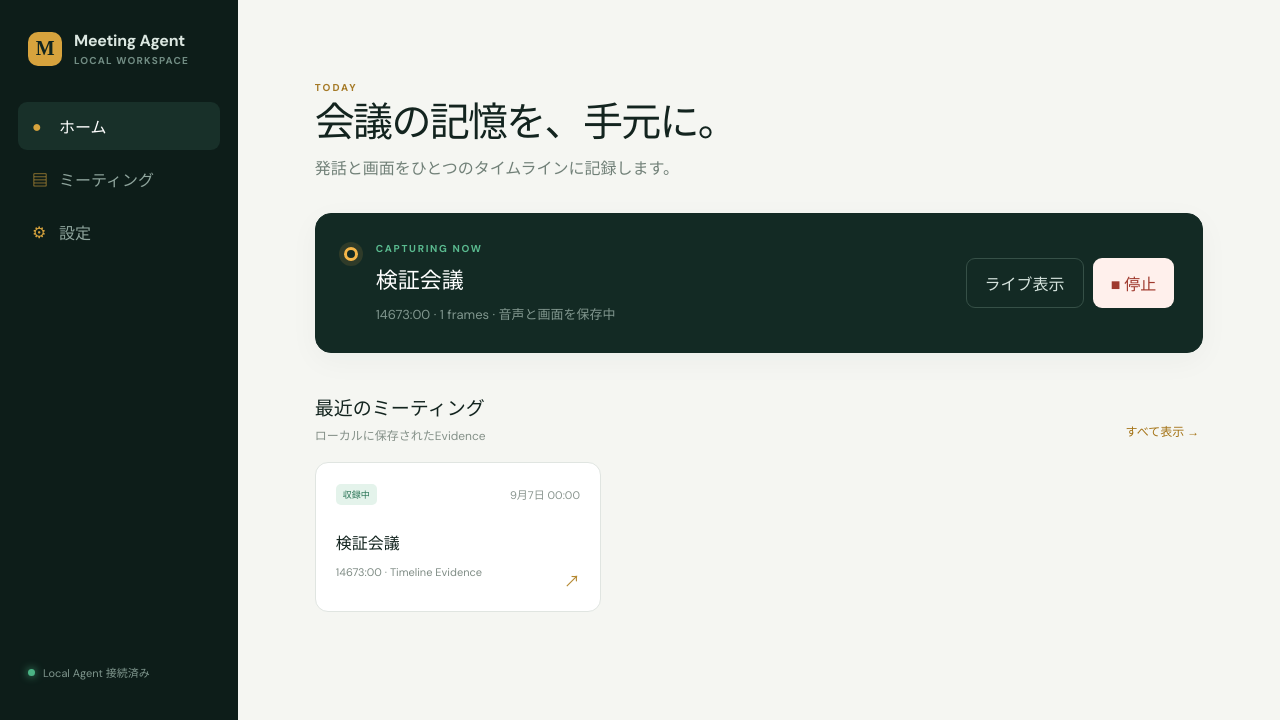
Scenario: shows the stored generator and topic discussion in meeting minutes
Click the button "ライブ表示": [1025, 282] box x1=966 y1=258 x2=1084 y2=308
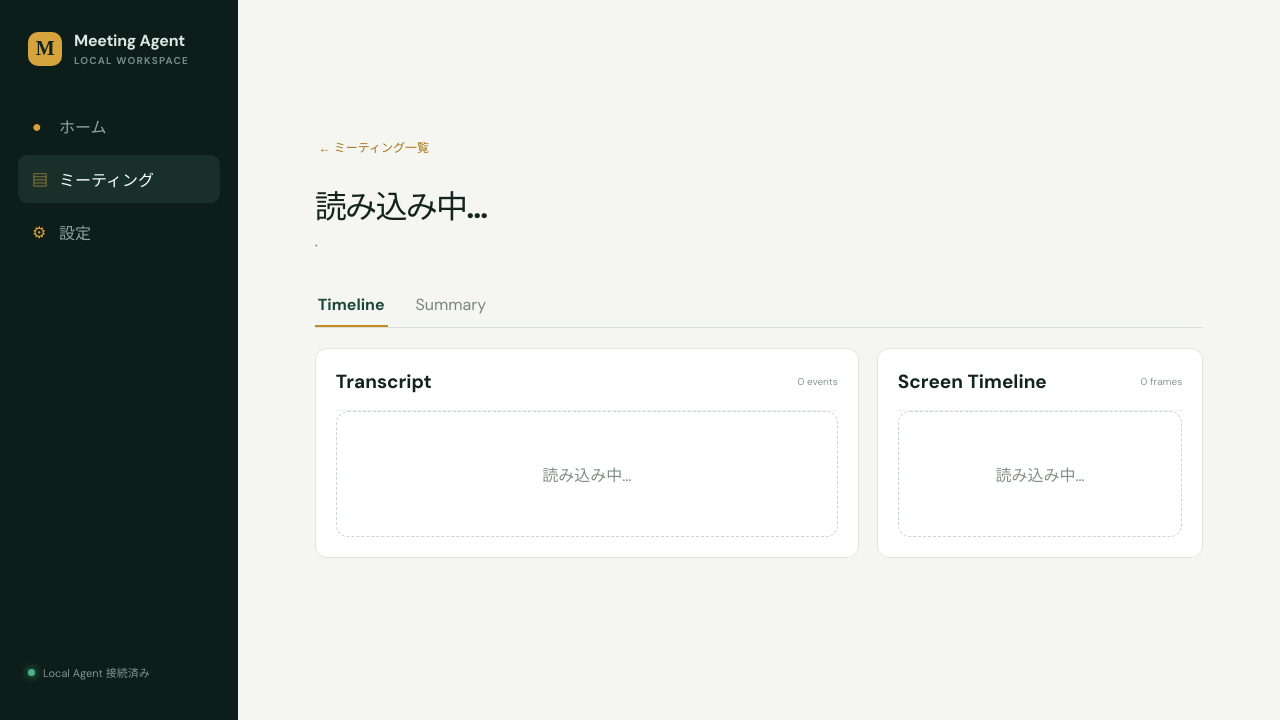
Click the button "Summary": [451, 306] box x1=413 y1=284 x2=489 y2=327
(page scrolled)
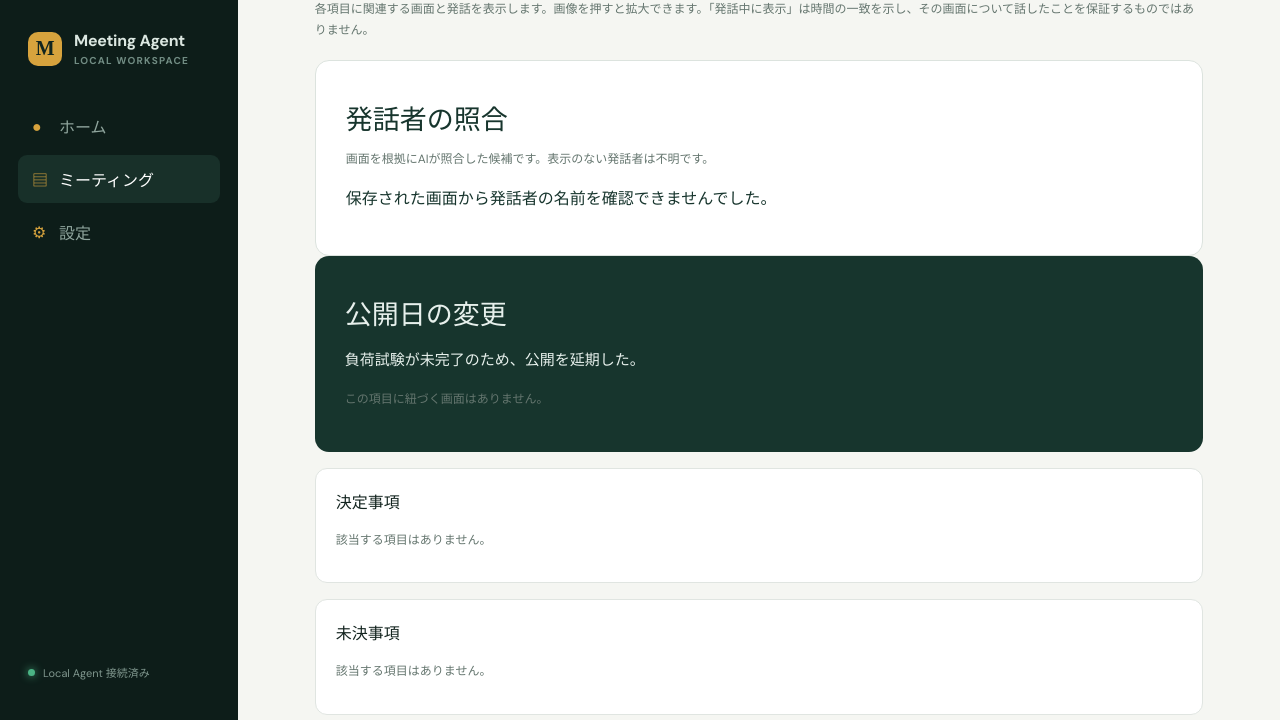
Expected: the heading "公開日の変更" is shown, x1=345 y1=297 x2=507 y2=332
Expected: the text "負荷試験が未完了のため、公開を延期した。" is shown, x1=345 y1=350 x2=645 y2=370
